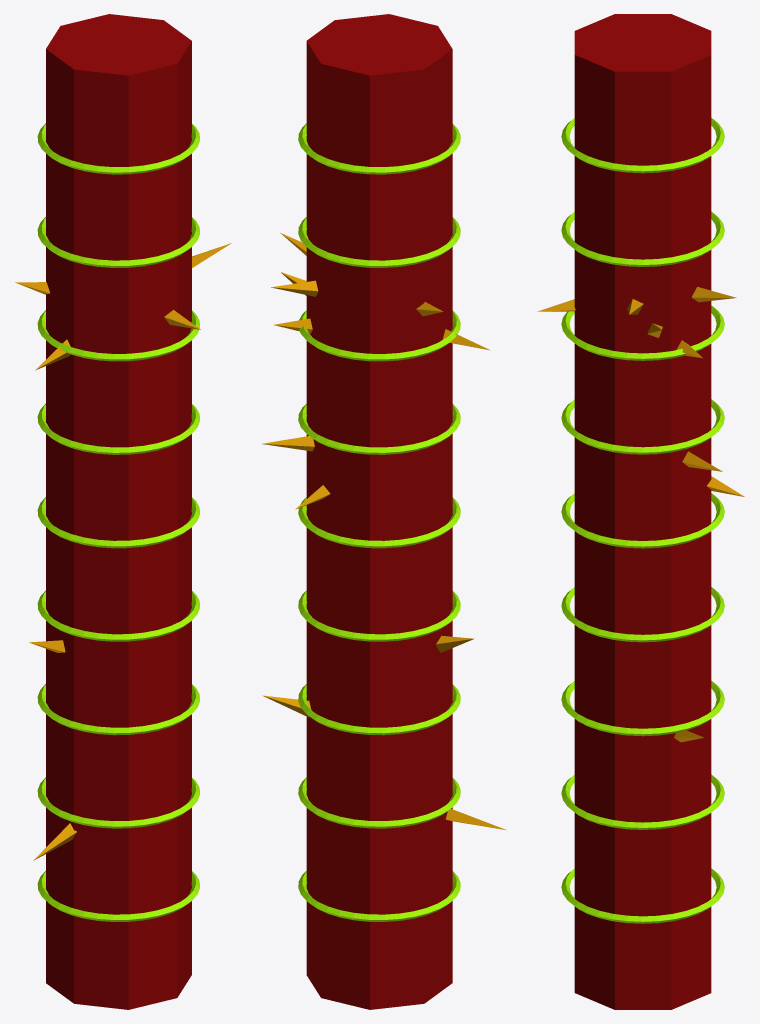
Rendered from vault_spine.glb.
The picture shows the model from 3 angles, left to right: view 1: azimuth 30°, elevation 25°; view 2: azimuth 150°, elevation 25°; view 3: azimuth 270°, elevation 25°; orthographic projection.
Visible parts, largest first — view 1: vault_spine; view 2: vault_spine; view 3: vault_spine.
Boxes of the visible parts, x1,y1,x2,y2 form: vault_spine: (15,14,231,1009); vault_spine: (262,14,506,1009); vault_spine: (537,14,744,1009).
Bounding box in the file's own units: 16.79 × 70 × 14.15.
